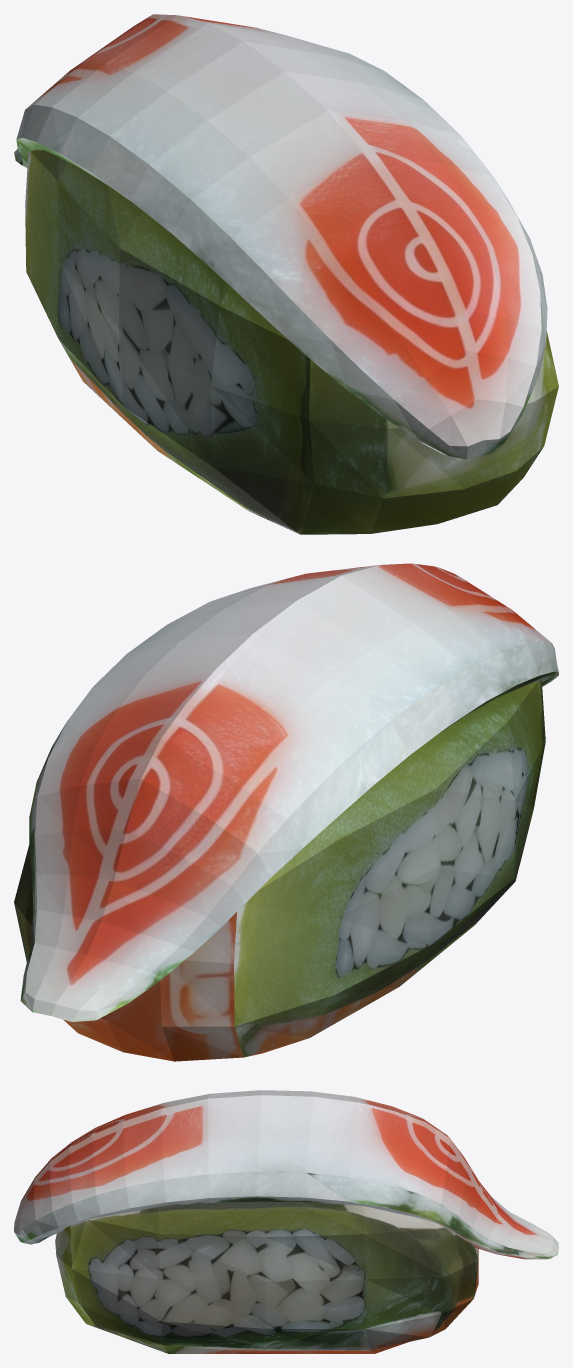
3 views of the same model, one above another, from view 1: azimuth 30°, elevation 25°; view 2: azimuth 150°, elevation 25°; view 3: azimuth 270°, elevation 25° (orthographic). The views are drawn at different scales.
Parts seen in each view (by area): view 1: mesh.003; view 2: mesh.003; view 3: mesh.003.
Boxes of the visible parts, box(x1,y1,x2,y2) form: mesh.003: box(14, 14, 558, 534); mesh.003: box(14, 563, 558, 1061); mesh.003: box(14, 1090, 558, 1353).
Bounding box in the file's own units: 0.4835 × 0.5476 × 1.17.
1 material, 1 textured.
